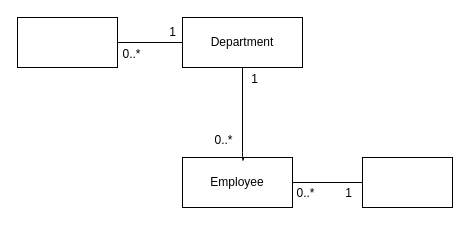
The diagram is 470 pixels wide and 225 high, and some of its shapes have lost their labels. The centre of each missing label's shape, as x and y in pixels:
"Citizen" goes at point 67,42.
"Role" goes at point 407,182.
